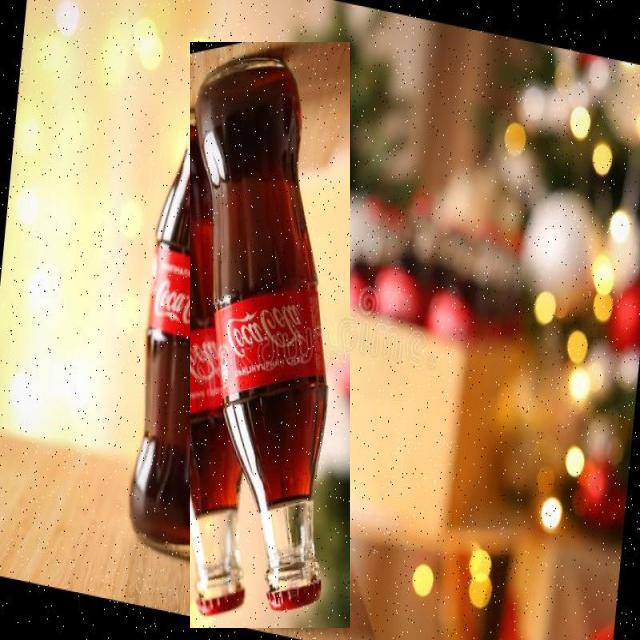coca-cola: (190, 42, 350, 628), (121, 40, 262, 575)
